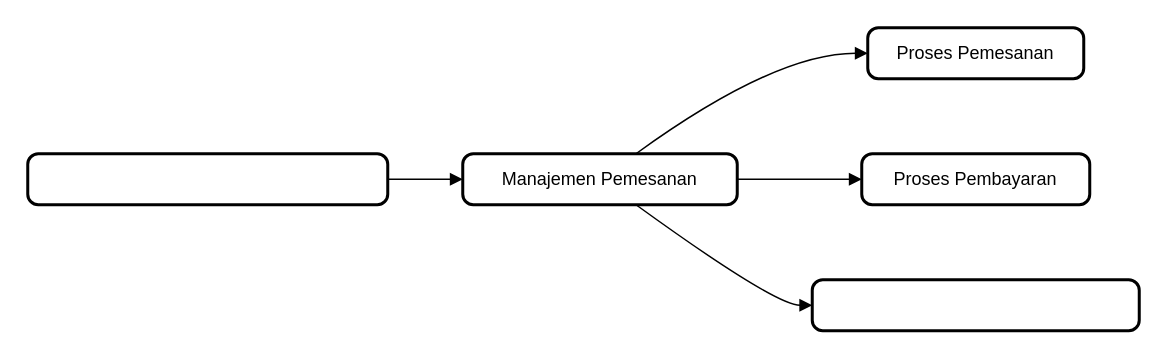
This 1166x357 diagram has some shape labels left out. The centre of each missing label's shape, as x and y in pixels:
Proses Pengambilan Pesanan: (975,305)
Sistem Informasi Kasir Pujasera: (207,179)
